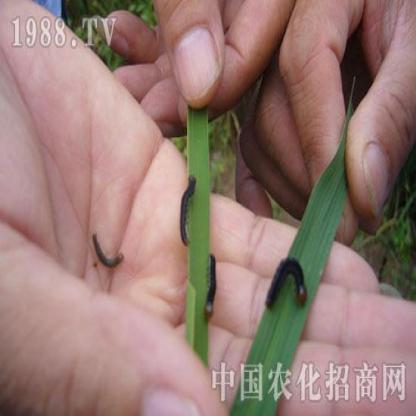armyworm: (264, 248, 312, 317), (170, 167, 195, 267), (86, 229, 129, 275), (203, 249, 220, 337)
